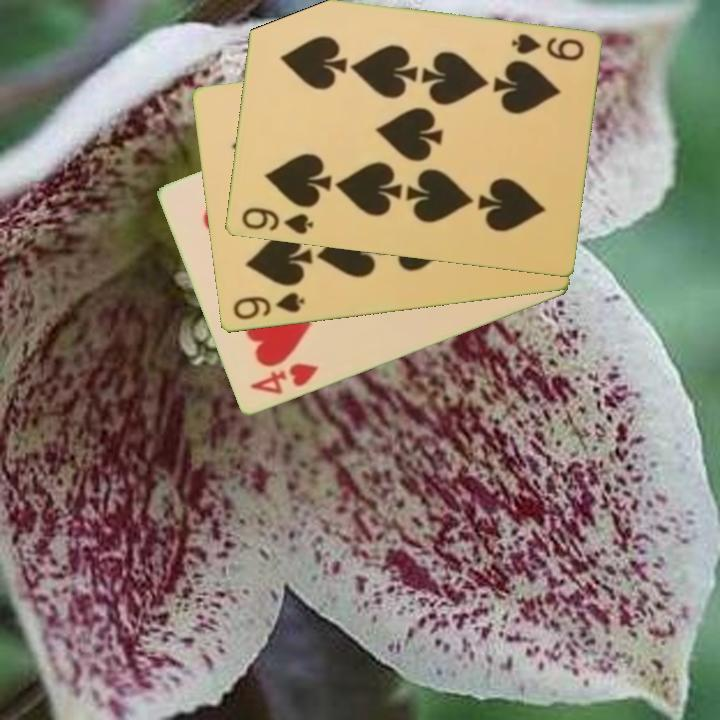4h: (246, 359, 322, 399)
9s: (229, 289, 307, 324), (507, 30, 587, 64), (237, 204, 316, 238)
